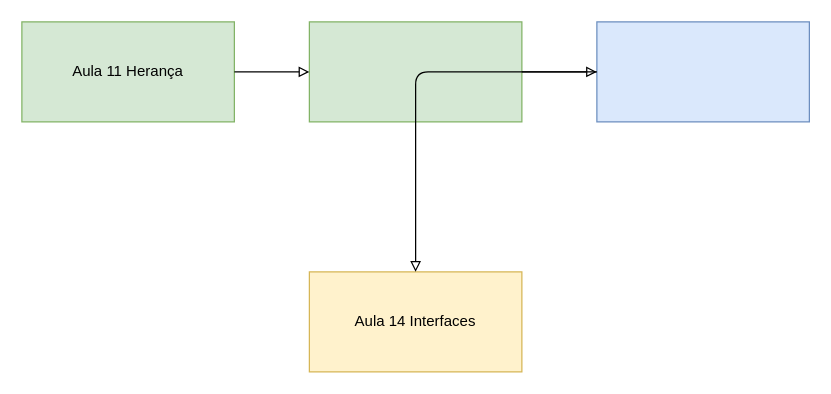
Image size: 831x394. Some labels were removed from this diagram. The shapes that lost their labels are listed below. From the top down, each one's centre as x and y in pixels, then its label:
[415,71]: Aula 12 Polimorfismo
[702,71]: Aula 13 Abstratas
